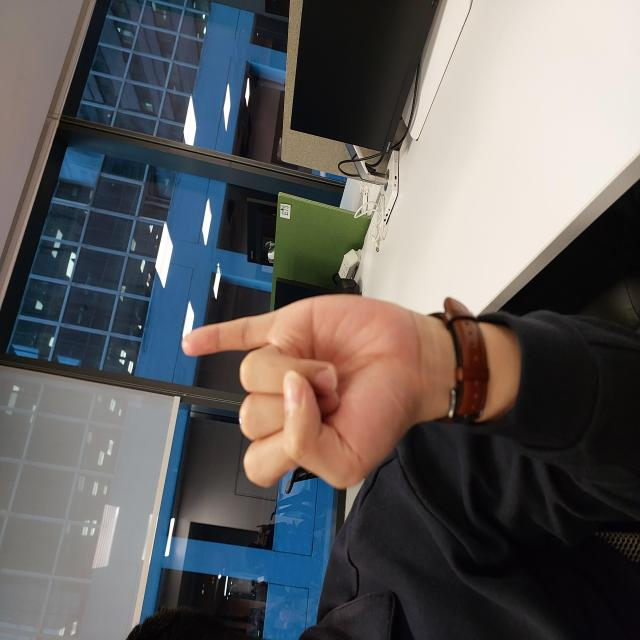I: (150, 182, 345, 415)
